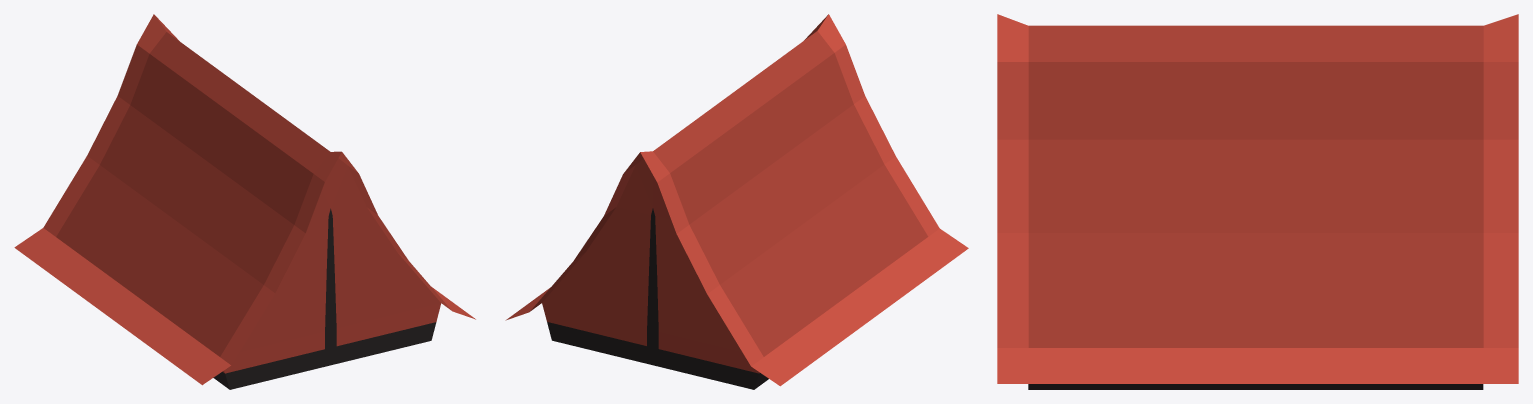
The model's file is Tent_Small_03.fbx.
The picture shows the model from 3 angles, left to right: view 1: azimuth 30°, elevation 25°; view 2: azimuth 150°, elevation 25°; view 3: azimuth 270°, elevation 25°; orthographic projection. The views are drawn at different scales.
Visible parts, largest first — view 1: Tent_Small_03; view 2: Tent_Small_03; view 3: Tent_Small_03.
Part boxes in pixels (left/top/right/bottom): Tent_Small_03: left=14, top=14, right=475, bottom=389; Tent_Small_03: left=505, top=14, right=968, bottom=389; Tent_Small_03: left=997, top=14, right=1518, bottom=389.
Size of the model in its own units: 1.93 by 1.49 by 2.29.
